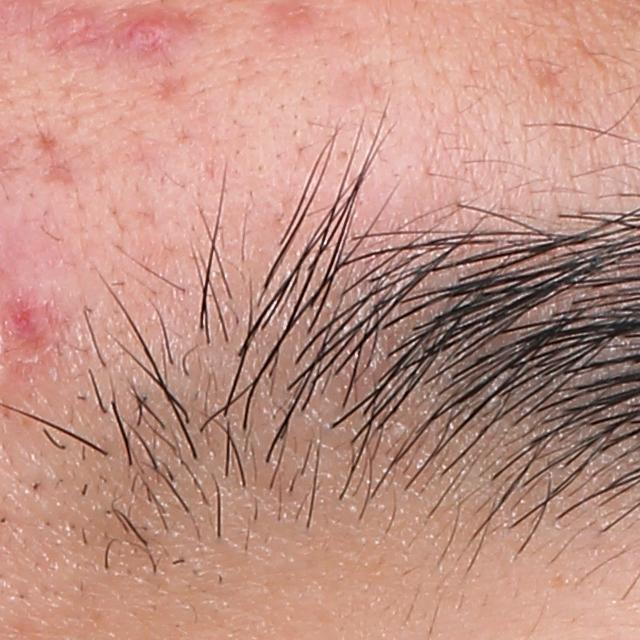atrophic_scar: (30, 132, 73, 184)
papule: (112, 4, 188, 71)
